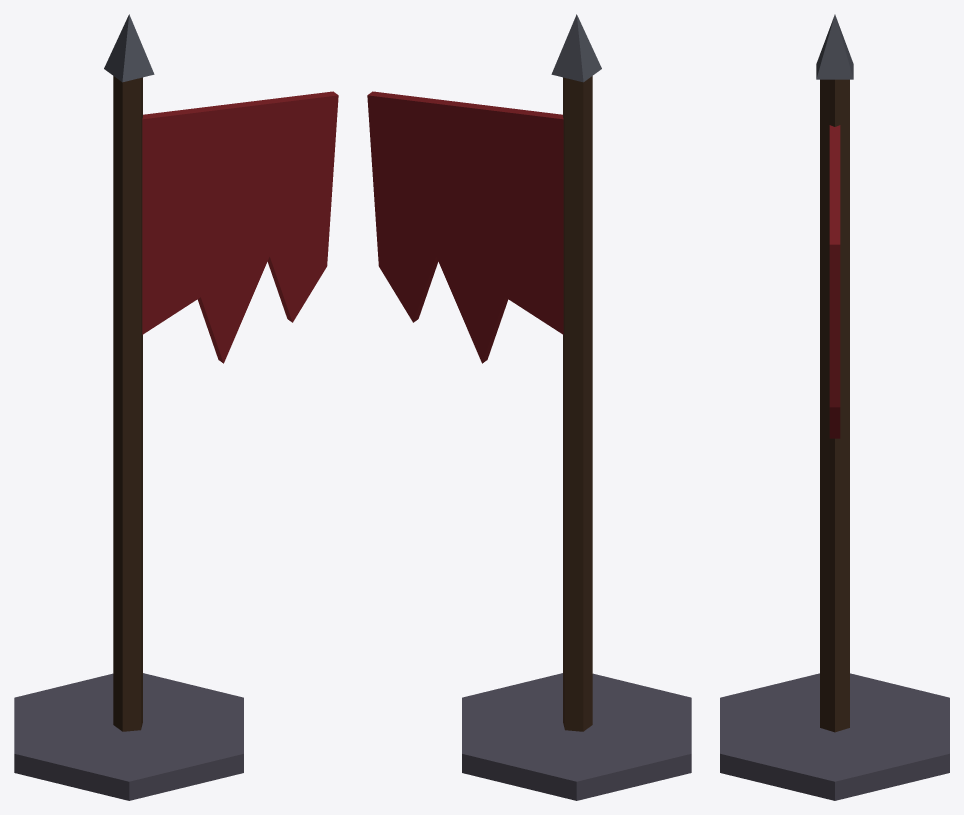
File: banner_pole_tattered.fbx
3 renders of one model, left to right at view 1: azimuth 30°, elevation 25°; view 2: azimuth 150°, elevation 25°; view 3: azimuth 270°, elevation 25°, orthographic.
Visible parts, largest first — view 1: banner_pole_tattered; view 2: banner_pole_tattered; view 3: banner_pole_tattered.
Boxes of the visible parts, <box> form: banner_pole_tattered: <box>14,14,338,800</box>; banner_pole_tattered: <box>367,14,691,800</box>; banner_pole_tattered: <box>720,14,949,800</box>.
Size of the model in its own units: 1.4 by 3.04 by 0.866.
